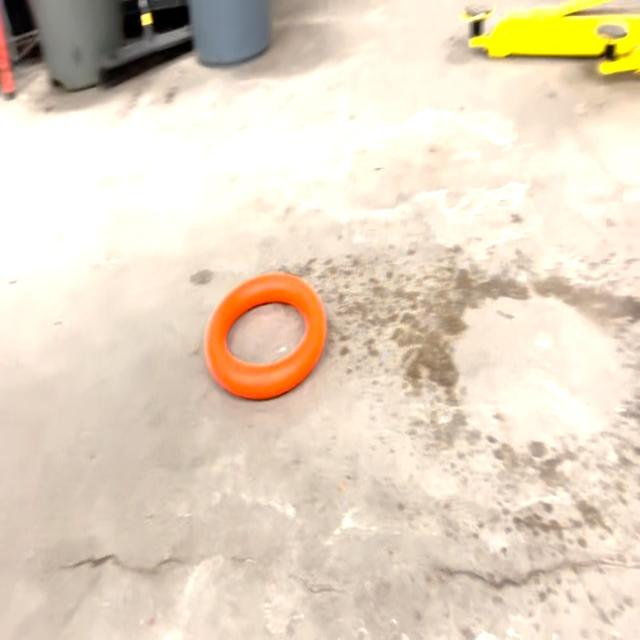note: (204, 272, 328, 401)
